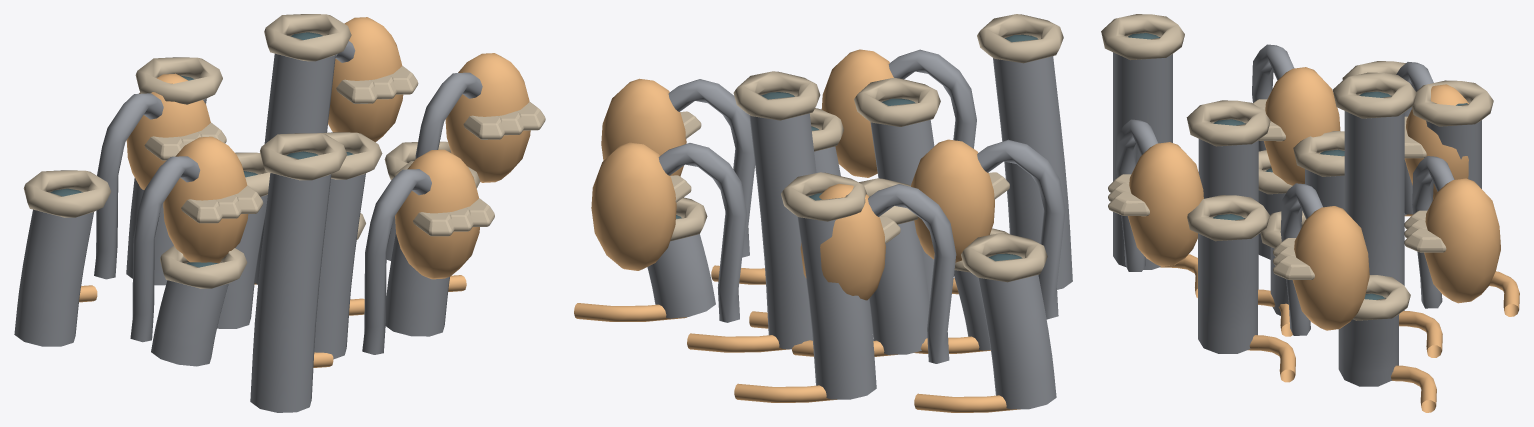
The model's file is bio_thermal_colony_03_far.glb.
3 views of the same model, side by side, from view 1: azimuth 30°, elevation 25°; view 2: azimuth 150°, elevation 25°; view 3: azimuth 270°, elevation 25° (orthographic). The views are drawn at different scales.
Visible parts, largest first — view 1: Chimney biofilm.007, Chimney biofilm.009, Pendant spore capsule.002, Pendant spore capsule.004, Pendant spore capsule, Chimney biofilm.002, Pendant spore capsule.003, Chimney biofilm.003, Chimney biofilm.004, Arched fruit stem.004, Arched fruit stem.002, Arched fruit stem.001 (+18 smaller); view 2: Chimney biofilm.003, Chimney biofilm.007, Pendant spore capsule.003, Chimney biofilm.006, Chimney biofilm.009, Pendant spore capsule.004, Chimney biofilm.001, Pendant spore capsule.001, Arched fruit stem.001, Arched fruit stem.003, Pendant spore capsule.002, Pendant spore capsule (+22 smaller); view 3: Chimney biofilm.003, Pendant spore capsule, Pendant spore capsule.003, Pendant spore capsule.002, Chimney biofilm.005, Pendant spore capsule.004, Chimney biofilm.007, Chimney biofilm.008, Chimney biofilm.002, Open vent rim.002, Open vent rim.003, Open vent rim.007 (+28 smaller).
Part boxes in pixels (<box>): Chimney biofilm.007: <box>250,173,331,412</box>; Chimney biofilm.009: <box>14,209,93,346</box>; Pendant spore capsule.002: <box>395,149,479,279</box>; Pendant spore capsule.004: <box>163,136,248,263</box>; Pendant spore capsule: <box>445,53,530,182</box>; Chimney biofilm.002: <box>314,173,365,359</box>; Pendant spore capsule.003: <box>328,17,403,142</box>; Chimney biofilm.003: <box>254,53,335,284</box>; Chimney biofilm.004: <box>151,280,228,366</box>; Arched fruit stem.004: <box>130,156,200,342</box>; Arched fruit stem.002: <box>362,169,431,354</box>; Arched fruit stem.001: <box>94,93,163,279</box>; Chimney biofilm.003: <box>749,95,816,349</box>; Chimney biofilm.007: <box>993,38,1072,289</box>; Pendant spore capsule.003: <box>591,142,676,270</box>; Chimney biofilm.006: <box>797,196,876,399</box>; Chimney biofilm.009: <box>978,257,1056,409</box>; Pendant spore capsule.004: <box>911,139,994,262</box>; Chimney biofilm.001: <box>869,220,929,354</box>; Pendant spore capsule.001: <box>800,183,885,300</box>; Arched fruit stem.001: <box>868,184,956,363</box>; Arched fruit stem.003: <box>658,143,746,322</box>; Pendant spore capsule.002: <box>821,49,893,177</box>; Pendant spore capsule: <box>601,78,686,176</box>; Chimney biofilm.003: <box>1344,95,1404,314</box>; Pendant spore capsule: <box>1292,206,1369,330</box>; Pendant spore capsule.003: <box>1424,178,1500,303</box>; Pendant spore capsule.002: <box>1128,142,1203,266</box>; Chimney biofilm.005: <box>1198,218,1257,353</box>; Pendant spore capsule.004: <box>1264,67,1340,185</box>; Chimney biofilm.007: <box>1113,37,1172,269</box>; Chimney biofilm.008: <box>1338,297,1398,386</box>; Chimney biofilm.002: <box>1198,123,1258,289</box>; Open vent rim.002: <box>1186,100,1270,146</box>; Open vent rim.003: <box>1333,72,1416,118</box>; Open vent rim.007: <box>1101,14,1184,60</box>.
Size of the model in its own units: 1.76 by 0.9103 by 1.39.
